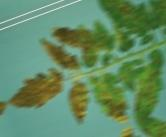Tomato Septoria leaf spot: (112, 46, 166, 121), (92, 0, 156, 52), (86, 63, 136, 127), (87, 13, 119, 61), (114, 56, 141, 95)
